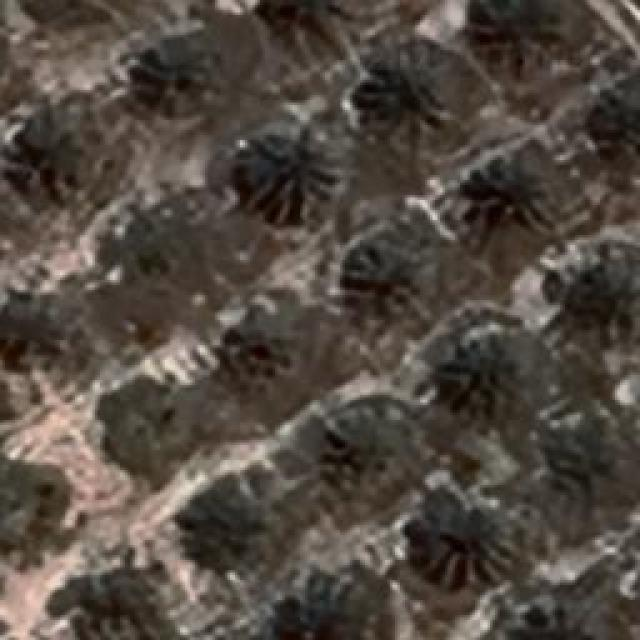PalmTree: (32, 64, 98, 326), (238, 125, 338, 225), (6, 105, 96, 200), (420, 500, 515, 585), (65, 560, 165, 640), (360, 50, 448, 140), (176, 488, 269, 570), (320, 406, 415, 486), (98, 28, 304, 64), (435, 335, 523, 415), (470, 0, 560, 78), (132, 38, 218, 112), (535, 425, 623, 495), (342, 242, 422, 316), (572, 244, 640, 326), (470, 152, 550, 220), (222, 308, 296, 380), (284, 577, 367, 640), (592, 70, 640, 170), (505, 600, 608, 640)
